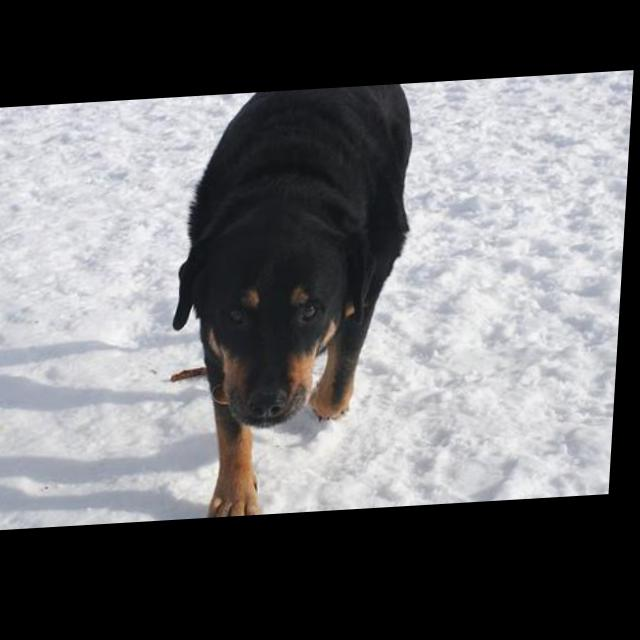rottweiler: (168, 89, 422, 524)
